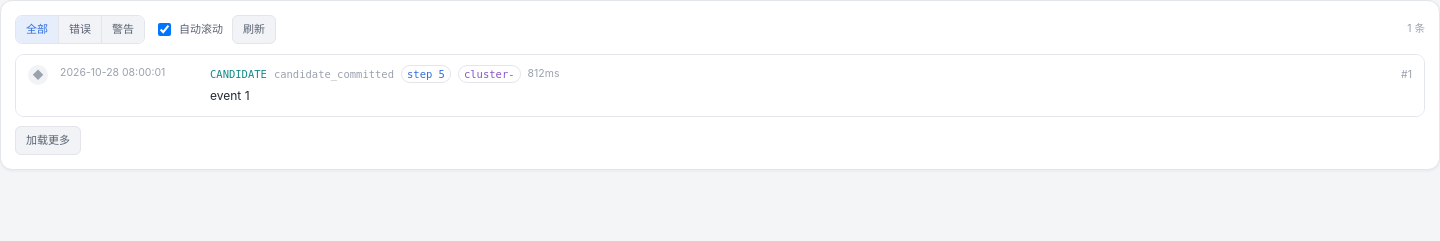
Test case: RunLogPanel › keeps loaded events when a later page fails and retries inline
What coordinates should you click on to do the following:
click the button with test id "load-more-events"
I would click on:
 (48, 140)
Its box is [15,126,81,155].
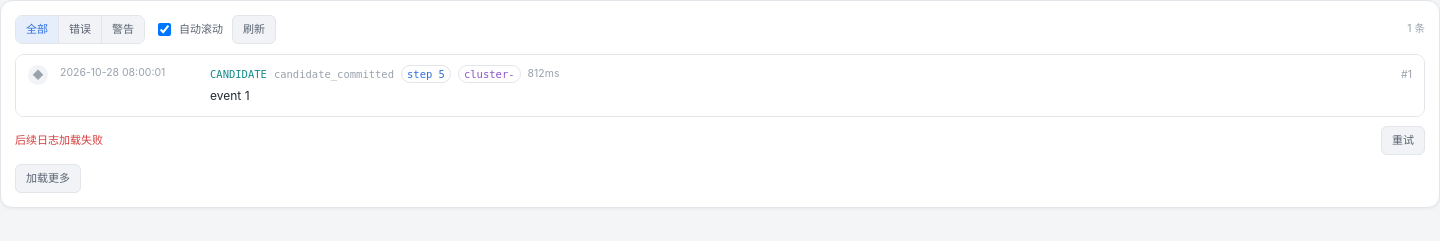
Expected: the text "event 1" is shown, [210,88,250,103]
Expected: the text "后续日志加载失败" is shown, [15,133,103,147]
What coordinates should you click on to do the following:
click the button with test id "retry-load-more"
I would click on:
 (1403, 140)
Its box is [1381,126,1425,155].
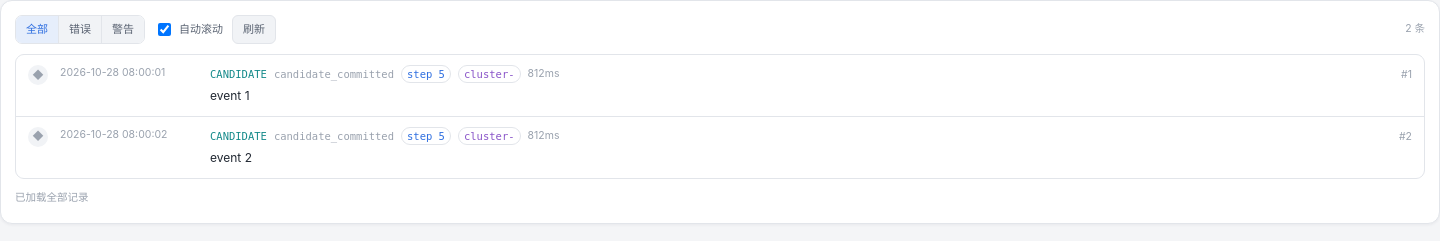
Expected: the text "event 2" is shown, [210,150,252,165]
Expected: the text "后续日志加载失败" is gone
